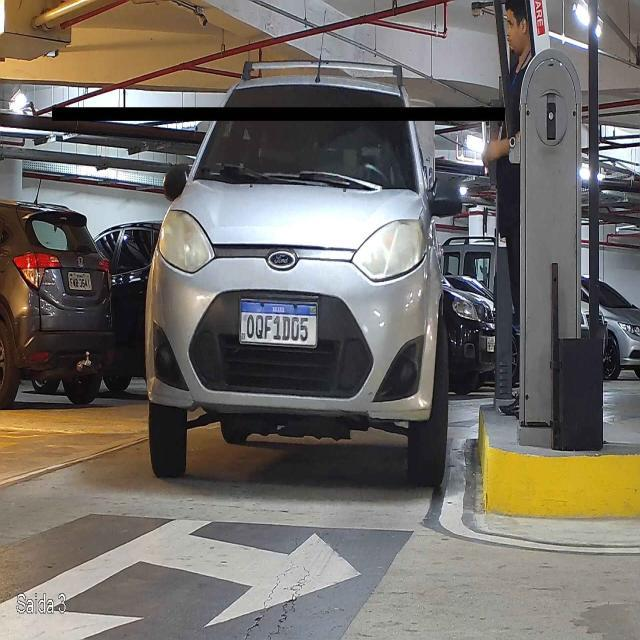mercosul_plate: (236, 296, 321, 352)
